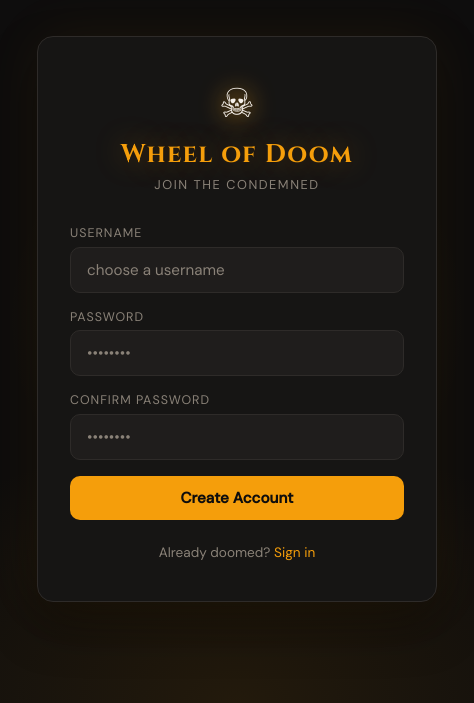
RegisterPage › shows a username taken error on conflict
Type "alice" into the field with placeholder "choose a username" at (237, 270), box [70, 247, 404, 293]
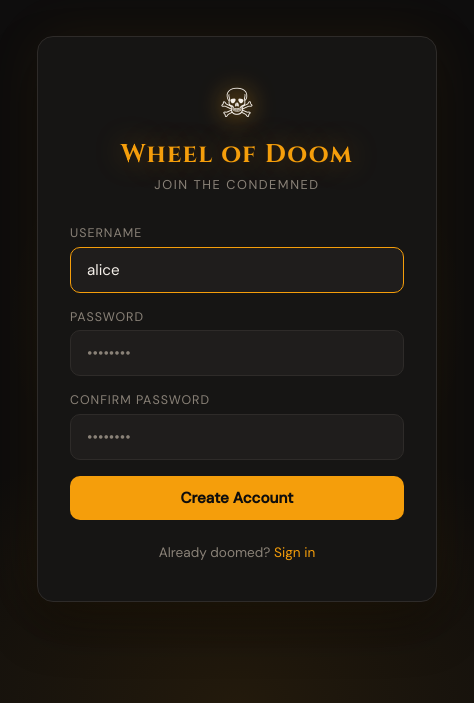
Type "secret123" into the 1st password field with placeholder "••••••••" at (237, 353), box [70, 330, 404, 376]
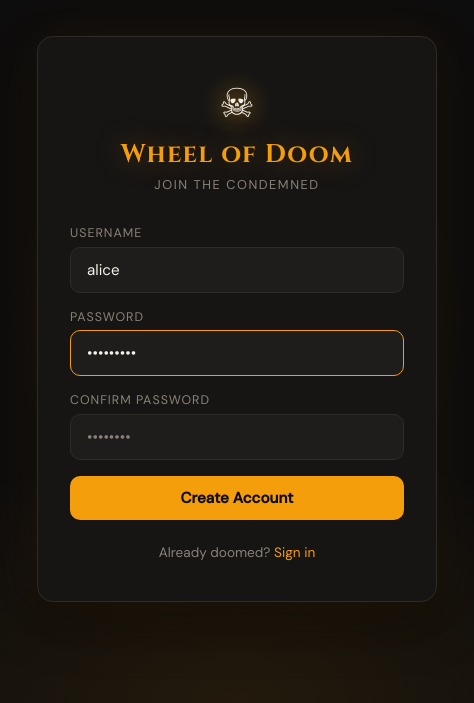
Type "secret123" into the password field with placeholder "••••••••" at (237, 437), box [70, 414, 404, 460]
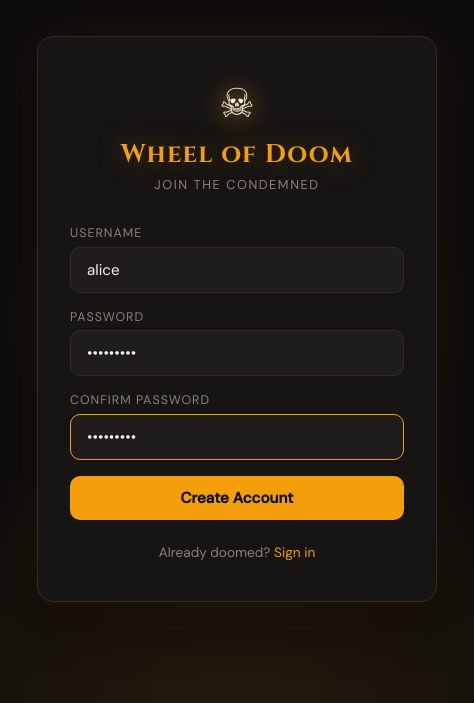
Click the button "Create Account" at (237, 498), box [70, 476, 404, 520]
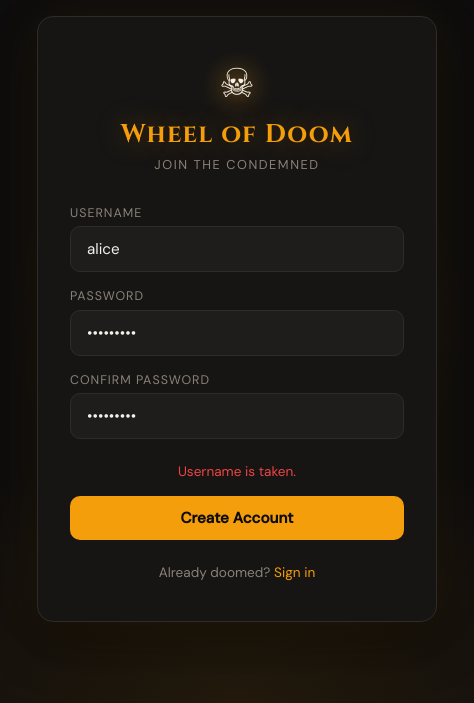
Now the text "Username is taken." is shown, box [178, 463, 296, 480]
